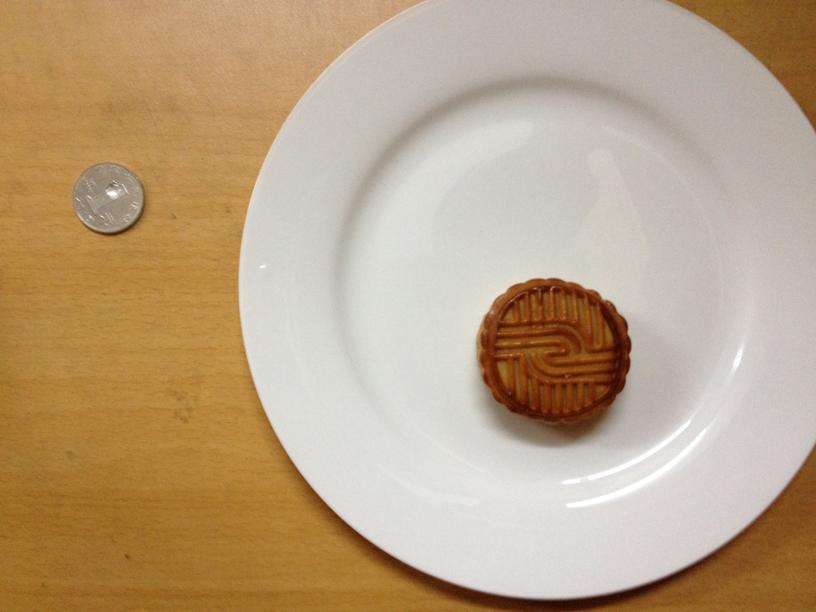coin: (70, 163, 144, 234)
mooncake: (471, 273, 632, 423)
